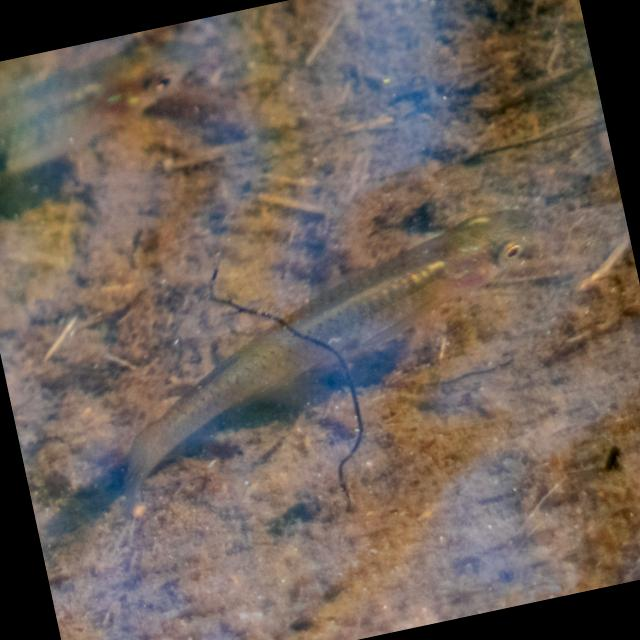Sivrisinek Baligi: (51, 202, 575, 526)
